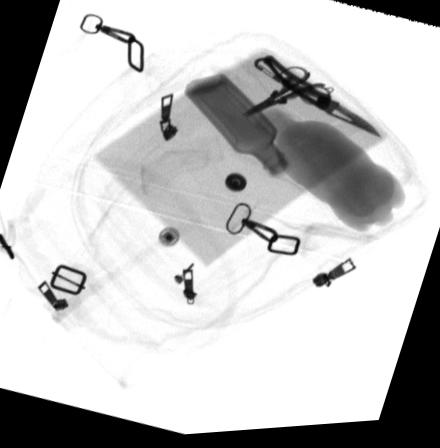Knife: (253, 60, 380, 145)
Scissors: (241, 70, 334, 123)
